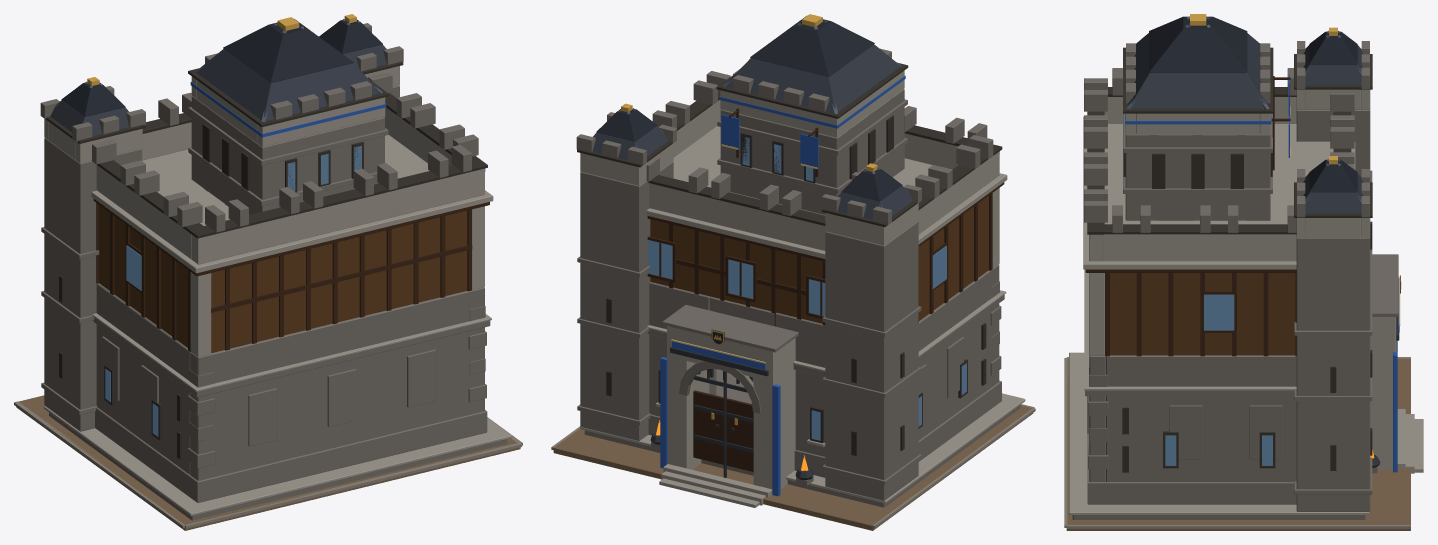
The model's file is 城镇大厅二本_低模.glb.
The picture shows the model from 3 angles, left to right: view 1: azimuth 30°, elevation 25°; view 2: azimuth 150°, elevation 25°; view 3: azimuth 270°, elevation 25°; orthographic projection. The views are drawn at different scales.
Visible parts, largest first — view 1: BR-stone_mid, BR-stone_light, BR-wood_mid, BR-wood_dark, BR-stone_dark, BR-roof_edge, BR-roof, BR-earth, BR-paving, BR-glass, BR-team; view 2: BR-stone_mid, BR-stone_light, BR-wood_mid, BR-wood_dark, BR-stone_dark, BR-earth, BR-roof, BR-roof_edge, BR-team, BR-glass, BR-iron, BR-paving; view 3: BR-stone_mid, BR-stone_light, BR-wood_mid, BR-roof, BR-stone_dark, BR-roof_edge, BR-earth, BR-wood_dark, BR-paving, BR-glass, BR-team.
Boxes of the visible parts, x1,y1,x2,y2 form: BR-stone_mid: (40,23,507,520); BR-stone_light: (44,66,512,516); BR-wood_mid: (98,205,467,352); BR-wood_dark: (93,199,489,351); BR-stone_dark: (45,61,487,459); BR-roof_edge: (61,19,382,116); BR-roof: (50,44,386,135); BR-earth: (16,395,520,530); BR-paving: (14,401,522,528); BR-glass: (105,145,361,436); BR-team: (190,81,485,241); BR-stone_mid: (576,48,1020,507); BR-stone_light: (580,70,1025,507); BR-wood_mid: (650,195,988,323); BR-wood_dark: (647,108,1004,471); BR-stone_dark: (577,62,1002,455); BR-earth: (553,405,1033,530); BR-roof: (592,44,912,219); BR-roof_edge: (596,16,902,343); BR-team: (660,75,999,496); BR-glass: (648,137,966,440); BR-iron: (650,347,813,479); BR-paving: (551,404,1035,528); BR-stone_mid: (1072,41,1398,519); BR-stone_light: (1069,89,1423,514); BR-wood_mid: (1110,273,1295,355); BR-roof: (1128,33,1363,213); BR-stone_dark: (1087,47,1372,472); BR-roof_edge: (1149,16,1357,192); BR-earth: (1066,358,1410,530); BR-wood_dark: (1085,76,1296,356); BR-paving: (1064,357,1410,528); BR-glass: (1165,294,1272,465); BR-team: (1090,74,1399,472).
Bounding box in the file's own units: 13.26 × 15.71 × 11.9.
